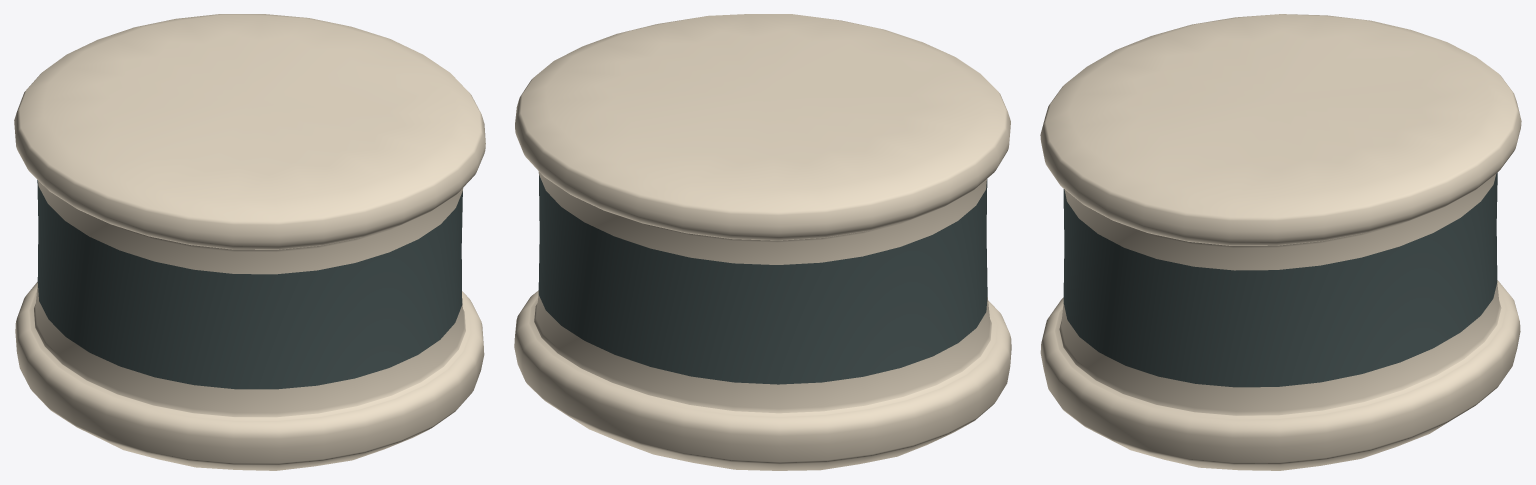
The model's file is SM_Building_06_Part_02.fbx.
3 views of the same model, side by side, from view 1: azimuth 30°, elevation 25°; view 2: azimuth 150°, elevation 25°; view 3: azimuth 270°, elevation 25° (orthographic). The views are drawn at different scales.
Visible parts, largest first — view 1: SM_Building_06_Part_02; view 2: SM_Building_06_Part_02; view 3: SM_Building_06_Part_02.
Part boxes in pixels (x1,y1,x2,y2): SM_Building_06_Part_02: [14, 14, 485, 470]; SM_Building_06_Part_02: [514, 14, 1011, 470]; SM_Building_06_Part_02: [1040, 14, 1521, 470].
Size of the model in its own units: 4723 by 3216 by 4721.
